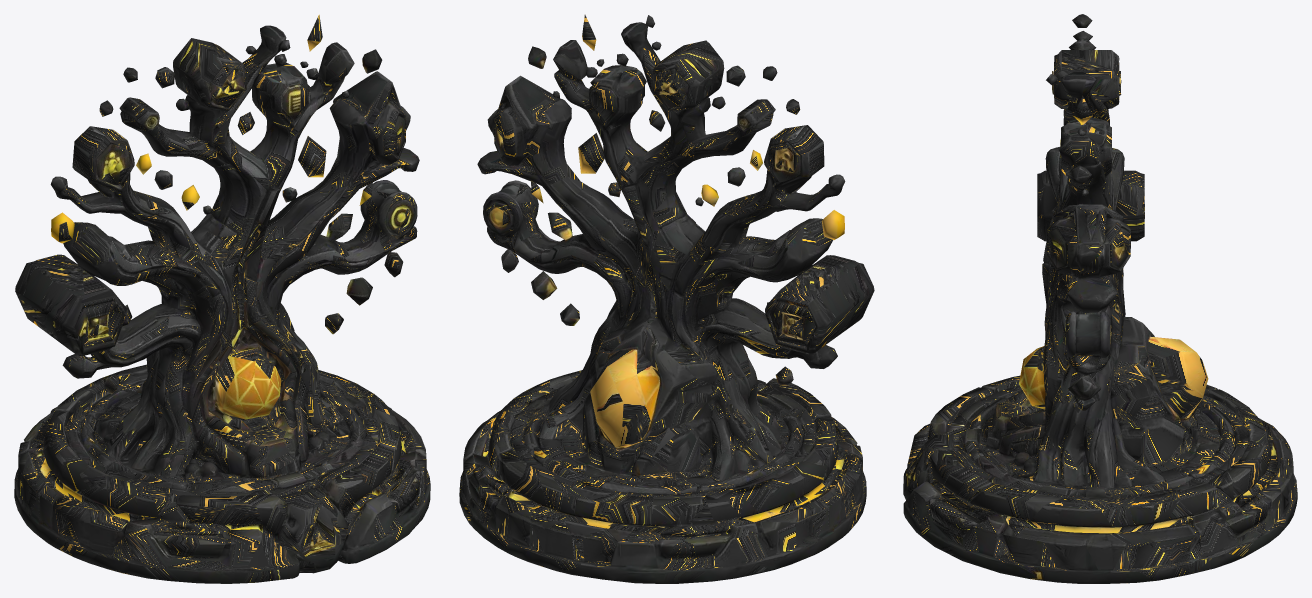
File: Ember_Tree_of_Knowled.glb
3 renders of one model, left to right at view 1: azimuth 30°, elevation 25°; view 2: azimuth 150°, elevation 25°; view 3: azimuth 270°, elevation 25°, orthographic. The views are drawn at different scales.
Visible parts, largest first — view 1: Ember_Tree_of_Knowled; view 2: Ember_Tree_of_Knowled; view 3: Ember_Tree_of_Knowled.
Boxes of the visible parts, <box> form: Ember_Tree_of_Knowled: <box>14,14,430,583</box>; Ember_Tree_of_Knowled: <box>459,14,874,583</box>; Ember_Tree_of_Knowled: <box>903,14,1297,583</box>.
Bounding box in the file's own units: 1.58 × 1.89 × 1.51.
Materials: 1 (1 with a texture image).
